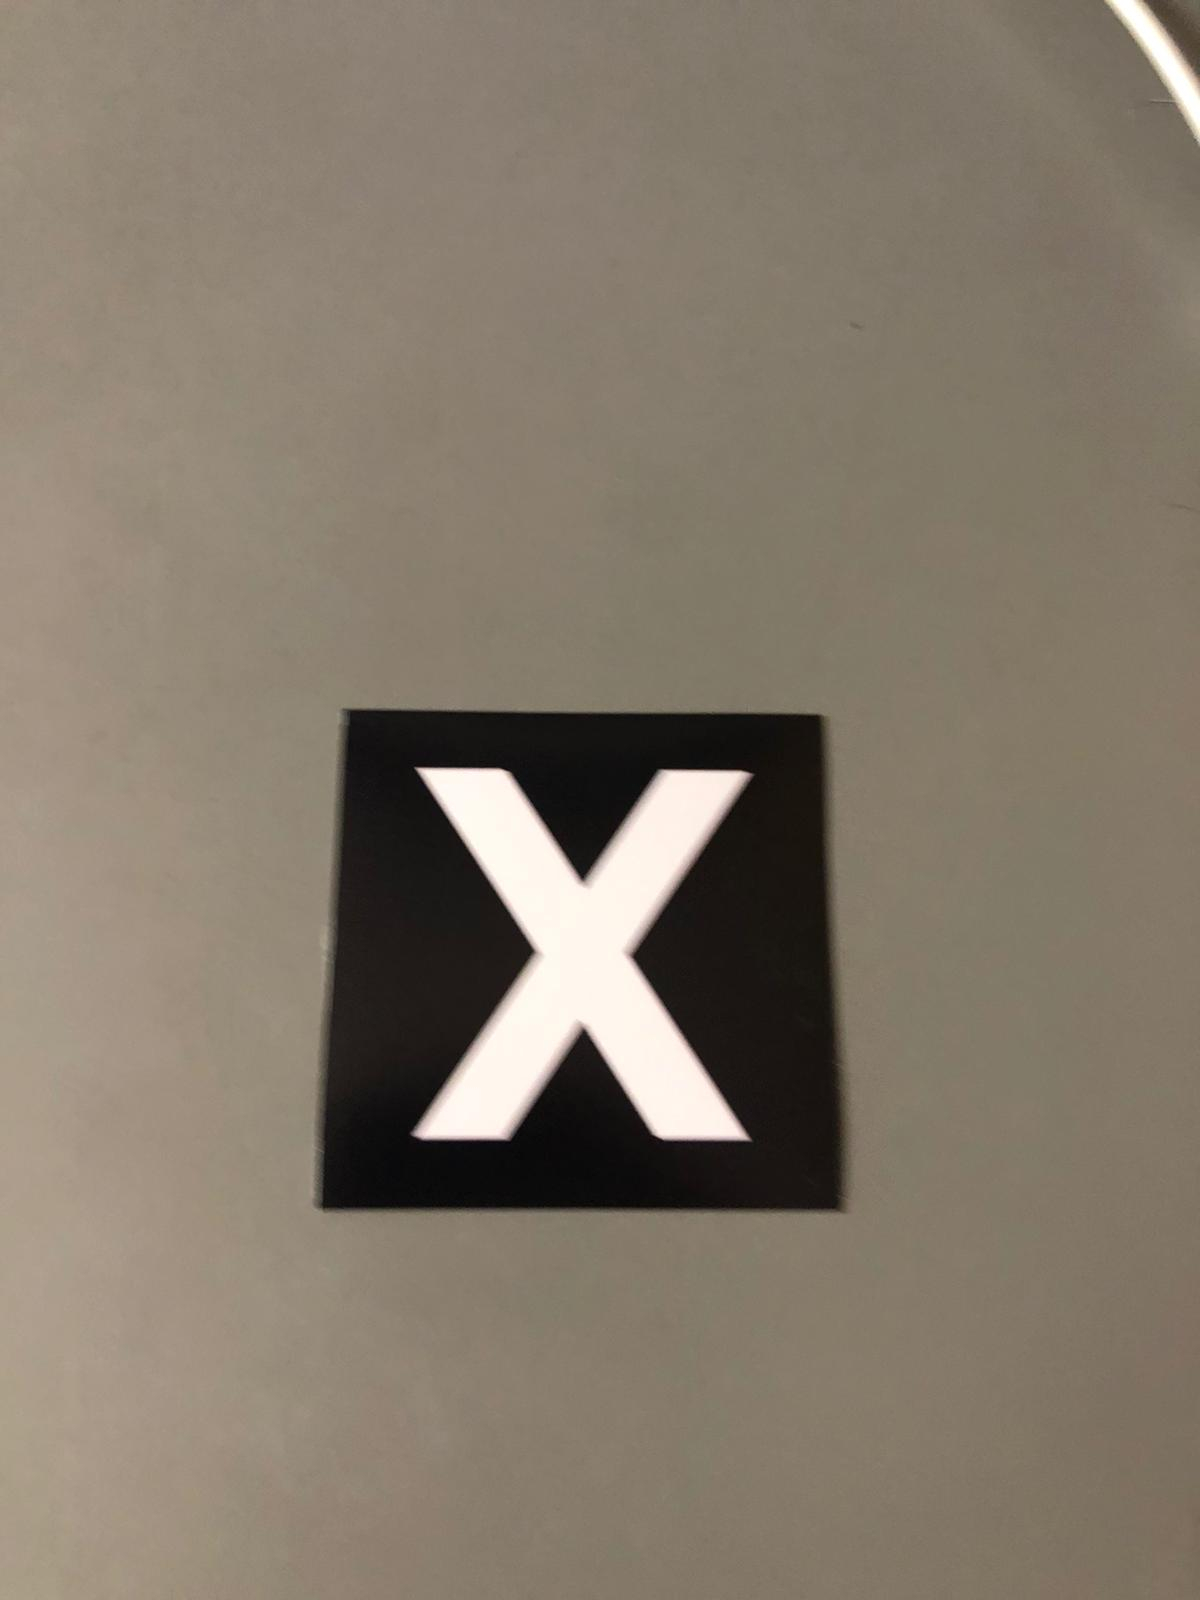X: (334, 724, 817, 1204)
